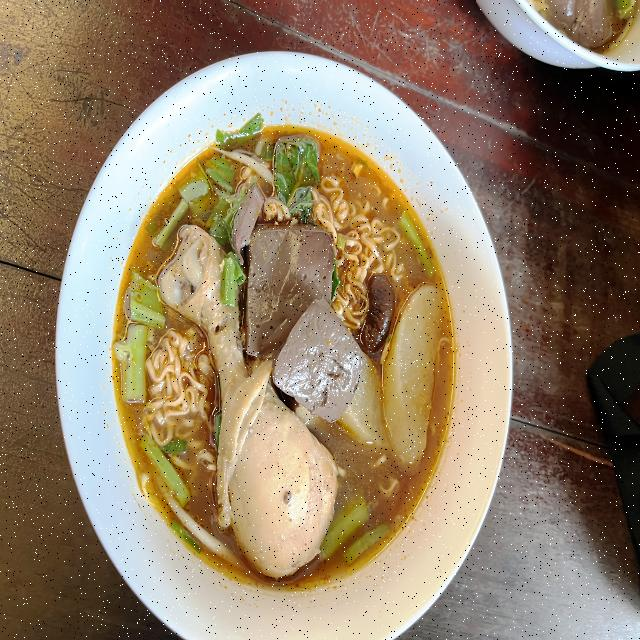boiled_chicken_blood_jelly: (246, 224, 333, 354), (270, 300, 365, 416)
chicken_drumstick: (157, 223, 335, 582)
daikon_radish: (380, 289, 441, 453), (359, 359, 387, 444)
noodle: (111, 118, 465, 594)
